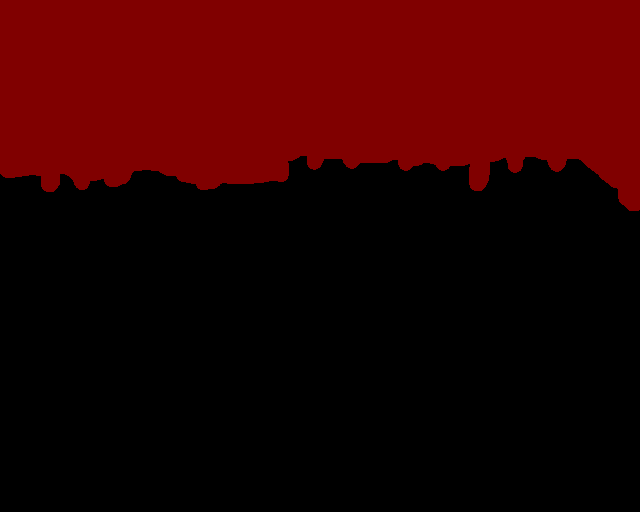Sky: (1, 1, 639, 211)
